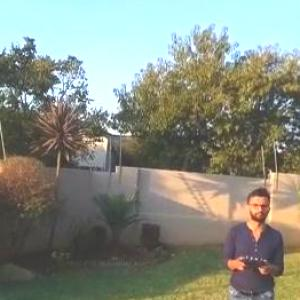follow: (219, 183, 287, 299)
